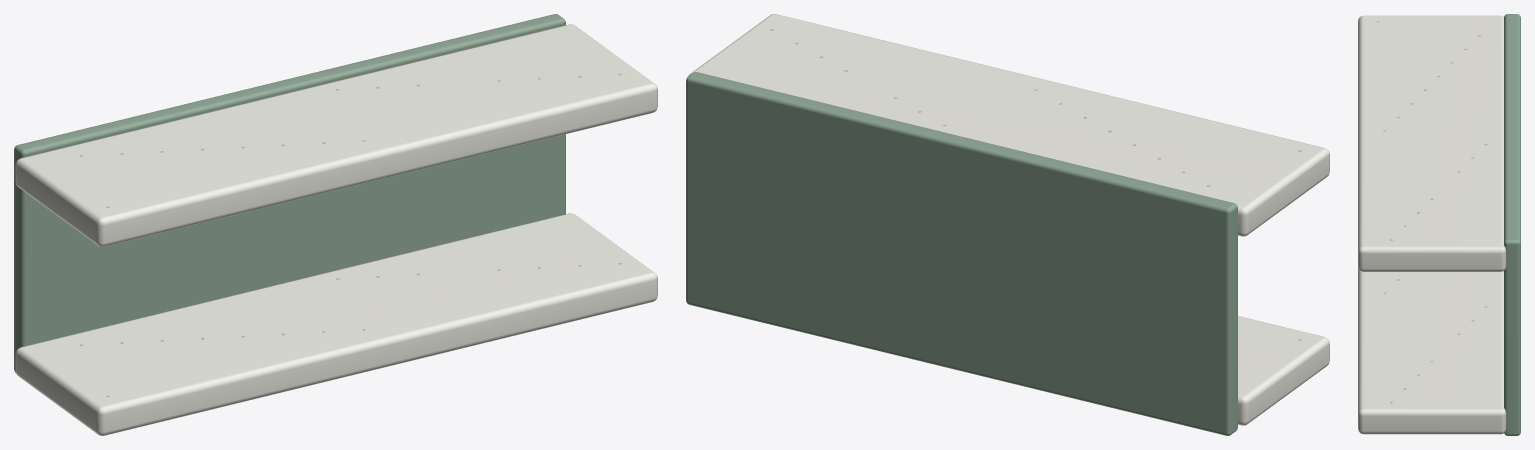
The model's file is kitchenModernShelfSage.glb.
3 renders of one model, left to right at view 1: azimuth 30°, elevation 25°; view 2: azimuth 150°, elevation 25°; view 3: azimuth 270°, elevation 25°, orthographic. The views are drawn at different scales.
Parts seen in each view (by area): view 1: Wall shelf.001, Wall shelf, Wall backplate; view 2: Wall backplate, Wall shelf.001, Wall shelf; view 3: Wall shelf.001, Wall shelf, Wall backplate.
Boxes of the visible parts, <box> form: Wall shelf.001: <box>15,24,657,246</box>; Wall shelf: <box>15,213,657,435</box>; Wall backplate: <box>14,14,565,372</box>; Wall backplate: <box>686,72,1237,435</box>; Wall shelf.001: <box>688,14,1329,236</box>; Wall shelf: <box>1237,316,1329,425</box>; Wall shelf.001: <box>1358,15,1506,271</box>; Wall shelf: <box>1358,267,1506,434</box>; Wall backplate: <box>1504,14,1520,435</box>.
Size of the model in its own units: 1.8 by 0.705 by 0.5275.
